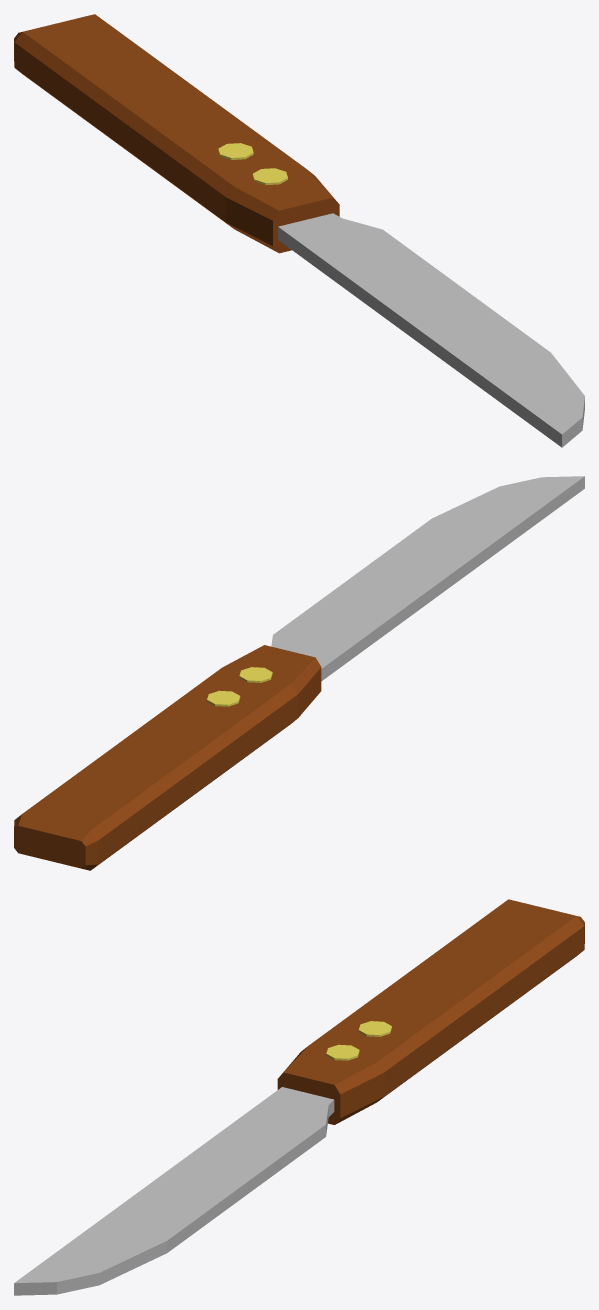
Rendered from Cuchillo.fbx.
3 renders of one model, top to bottom at view 1: azimuth 30°, elevation 25°; view 2: azimuth 150°, elevation 25°; view 3: azimuth 330°, elevation 25°, orthographic. The views are drawn at different scales.
Parts seen in each view (by area): view 1: Cuchillo; view 2: Cuchillo; view 3: Cuchillo.
Part boxes in pixels (bbox=[...]): Cuchillo: bbox=[14, 14, 584, 447]; Cuchillo: bbox=[14, 476, 584, 870]; Cuchillo: bbox=[14, 899, 584, 1295].
Bounding box in the file's own units: 4.12 × 1.92 × 41.98.
